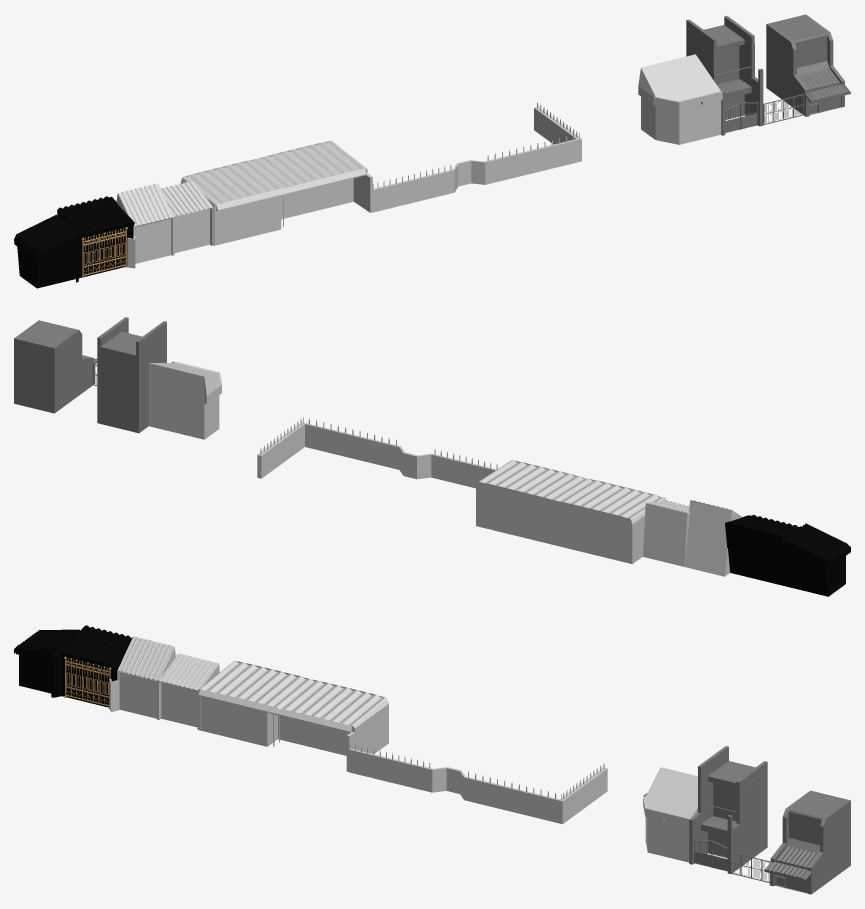
Rendered from sto.domingo-buildings-teamB.fbx.
3 views of the same model, one above another, from view 1: azimuth 30°, elevation 25°; view 2: azimuth 150°, elevation 25°; view 3: azimuth 330°, elevation 25° (orthographic). The views are drawn at different scales.
Visible parts, largest first — view 1: pCube13, pCylinder36, Wrought iron gate 7, pCube5, pCube1, pCube10, pCube9, pCylinder35; view 2: pCylinder36, pCube13, Wrought iron gate 7, pCube5, pCube1, pCube10, pCube9; view 3: pCylinder36, pCube13, pCube5, Wrought iron gate 7, pCube1, pCube10, pCube9, pCylinder35.
Part boxes in pixels (bbox=[...]): pCube13: bbox=[638, 16, 763, 144]; pCylinder36: bbox=[180, 140, 372, 245]; Wrought iron gate 7: bbox=[14, 196, 134, 288]; pCube5: bbox=[373, 102, 581, 212]; pCube1: bbox=[766, 14, 850, 116]; pCube10: bbox=[116, 183, 174, 268]; pCube9: bbox=[161, 180, 213, 255]; pCylinder35: bbox=[763, 94, 804, 124]; pCylinder36: bbox=[476, 460, 666, 564]; pCube13: bbox=[97, 317, 221, 439]; Wrought iron gate 7: bbox=[725, 515, 850, 596]; pCube5: bbox=[257, 417, 503, 488]; pCube1: bbox=[14, 320, 97, 413]; pCube10: bbox=[684, 500, 742, 576]; pCube9: bbox=[643, 500, 689, 566]; pCylinder36: bbox=[198, 660, 388, 771]; pCube13: bbox=[643, 746, 767, 873]; pCube5: bbox=[349, 743, 607, 824]; Wrought iron gate 7: bbox=[14, 625, 132, 708]; pCube1: bbox=[764, 790, 850, 894]; pCube10: bbox=[109, 636, 175, 719]; pCube9: bbox=[157, 653, 219, 729]; pCylinder35: bbox=[730, 852, 770, 882].
Size of the model in its own units: 339 by 36.4 by 44.21.
